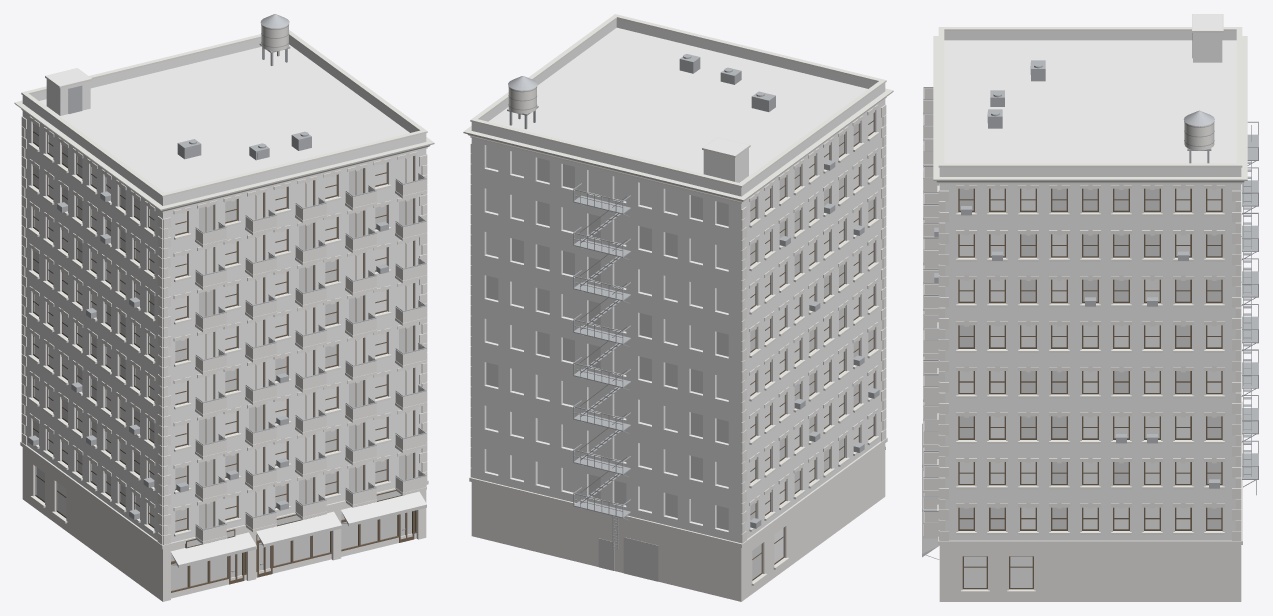
The model's file is midtown_w78f8.glb.
3 views of the same model, side by side, from view 1: azimuth 30°, elevation 25°; view 2: azimuth 150°, elevation 25°; view 3: azimuth 270°, elevation 25° (orthographic). The views are drawn at different scales.
Parts seen in each view (by area): view 1: midtown_w78f8_Walls, midtown_w78f8_Trim, midtown_w78f8_Roof, midtown_w78f8_Glass, midtown_w78f8_WindowsLit, midtown_w78f8_Frames, midtown_w78f8_Details, midtown_w78f8_Awning; view 2: midtown_w78f8_Walls, midtown_w78f8_Trim, midtown_w78f8_Roof, midtown_w78f8_Glass, midtown_w78f8_WindowsLit, midtown_w78f8_Details, midtown_w78f8_Frames, midtown_w78f8_Doors; view 3: midtown_w78f8_Walls, midtown_w78f8_Trim, midtown_w78f8_Roof, midtown_w78f8_Glass, midtown_w78f8_Frames, midtown_w78f8_WindowsLit, midtown_w78f8_Details.
Boxes of the visible parts, bbox=[...] form: midtown_w78f8_Walls: bbox=[22, 36, 426, 542]; midtown_w78f8_Trim: bbox=[14, 24, 434, 601]; midtown_w78f8_Roof: bbox=[39, 44, 409, 192]; midtown_w78f8_Glass: bbox=[34, 134, 412, 526]; midtown_w78f8_WindowsLit: bbox=[34, 124, 412, 590]; midtown_w78f8_Frames: bbox=[33, 124, 416, 592]; midtown_w78f8_Details: bbox=[28, 14, 426, 572]; midtown_w78f8_Awning: bbox=[170, 491, 426, 567]; midtown_w78f8_Walls: bbox=[471, 19, 885, 542]; midtown_w78f8_Trim: bbox=[463, 14, 893, 601]; midtown_w78f8_Roof: bbox=[489, 27, 867, 182]; midtown_w78f8_Glass: bbox=[486, 112, 873, 563]; midtown_w78f8_WindowsLit: bbox=[486, 123, 873, 579]; midtown_w78f8_Details: bbox=[507, 54, 879, 549]; midtown_w78f8_Frames: bbox=[750, 112, 874, 580]; midtown_w78f8_Doors: bbox=[598, 537, 658, 581]; midtown_w78f8_Walls: bbox=[939, 31, 1241, 540]; midtown_w78f8_Trim: bbox=[923, 14, 1247, 601]; midtown_w78f8_Roof: bbox=[944, 14, 1236, 163]; midtown_w78f8_Glass: bbox=[959, 188, 1221, 587]; midtown_w78f8_Frames: bbox=[958, 188, 1222, 589]; midtown_w78f8_WindowsLit: bbox=[959, 188, 1221, 529]; midtown_w78f8_Details: bbox=[923, 33, 1258, 559].
Size of the model in its own units: 81.12 by 125 by 80.4.
